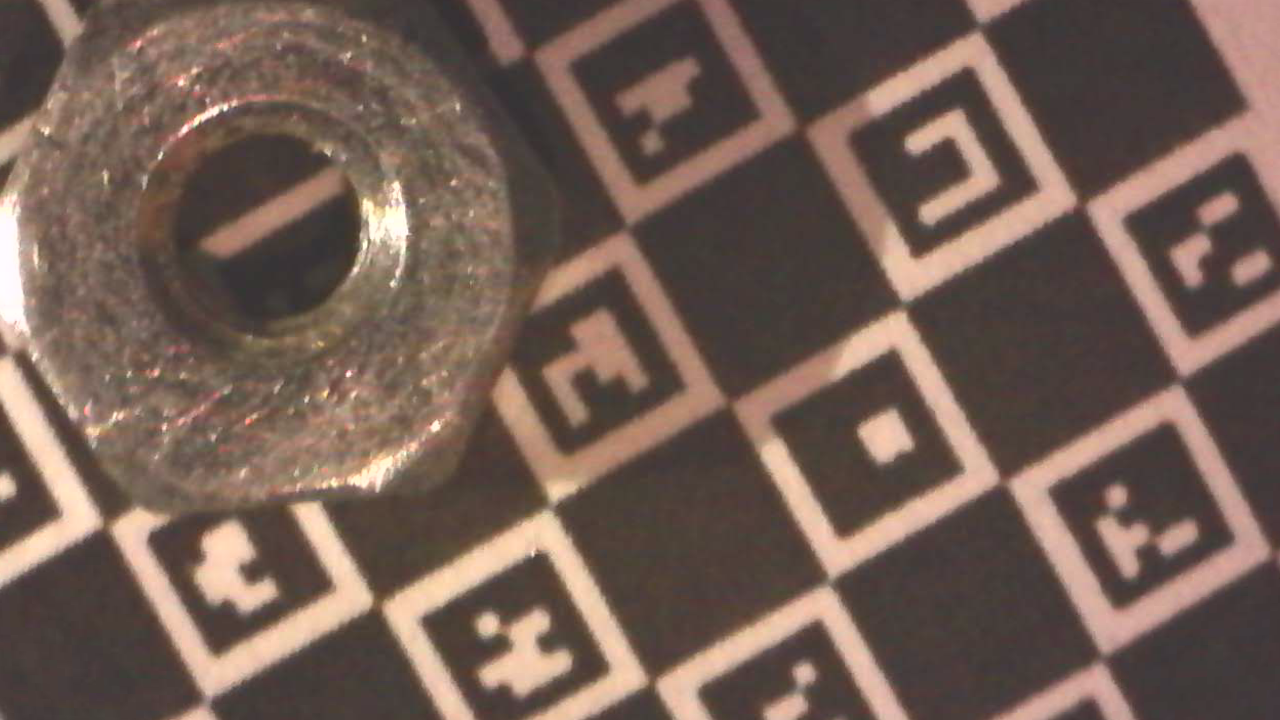Bolt: (0, 0, 558, 520)
